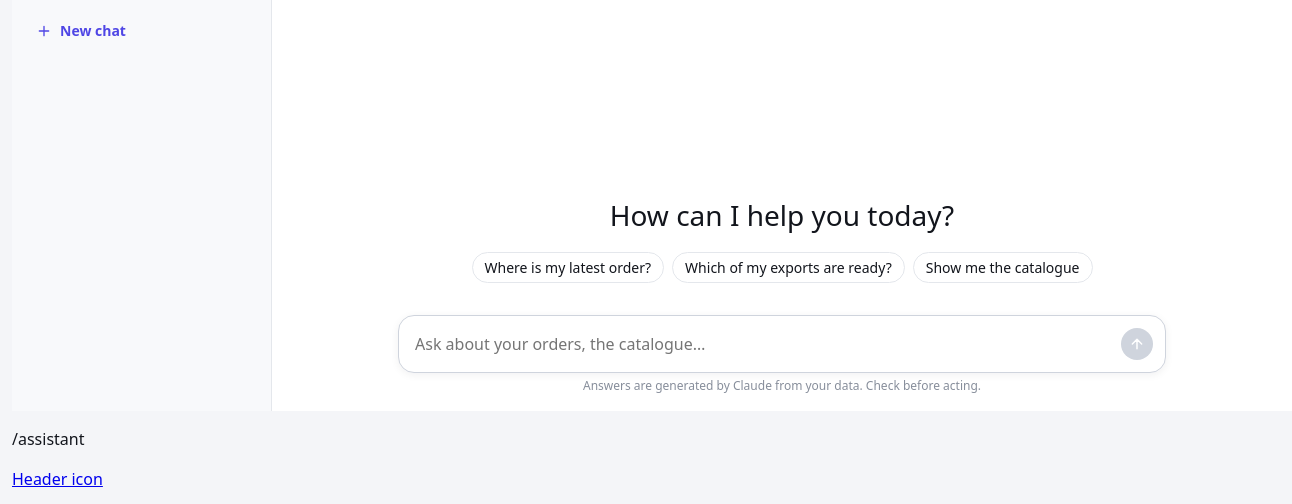
Test case: AssistantPage › refreshes the sidebar when an answer is saved
The width and height of the screenshot is (1292, 504).
Step 1. Type "One?" into the text box named "Your question" → (764, 344), box [415,328,1113,360]
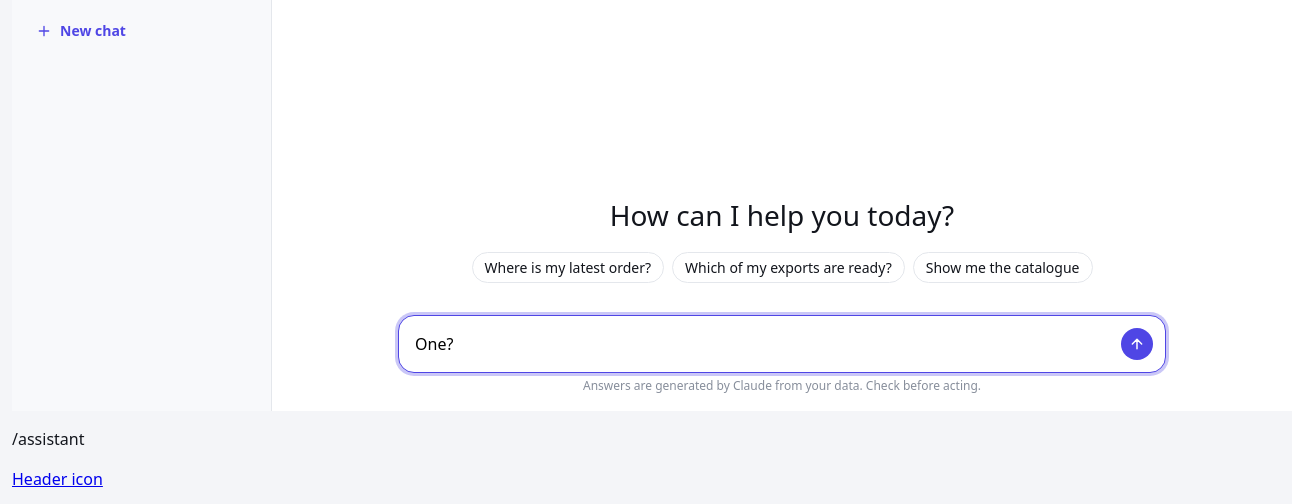
Step 2. Click the button named "Send" → (1137, 344), box [1121,328,1153,360]
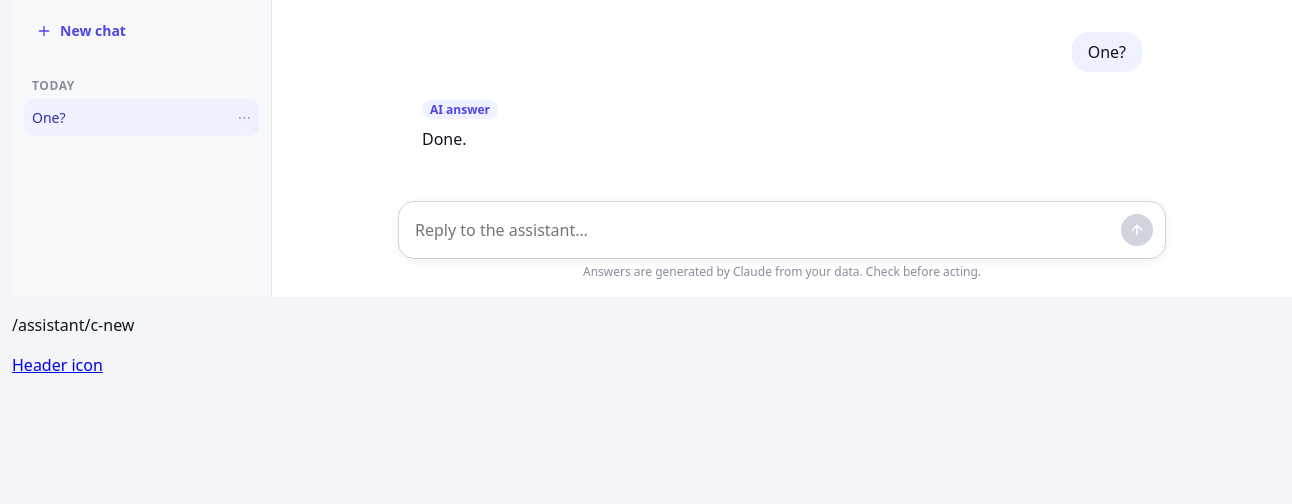
Now the link "One?" is shown, box [32,108,66,127]
